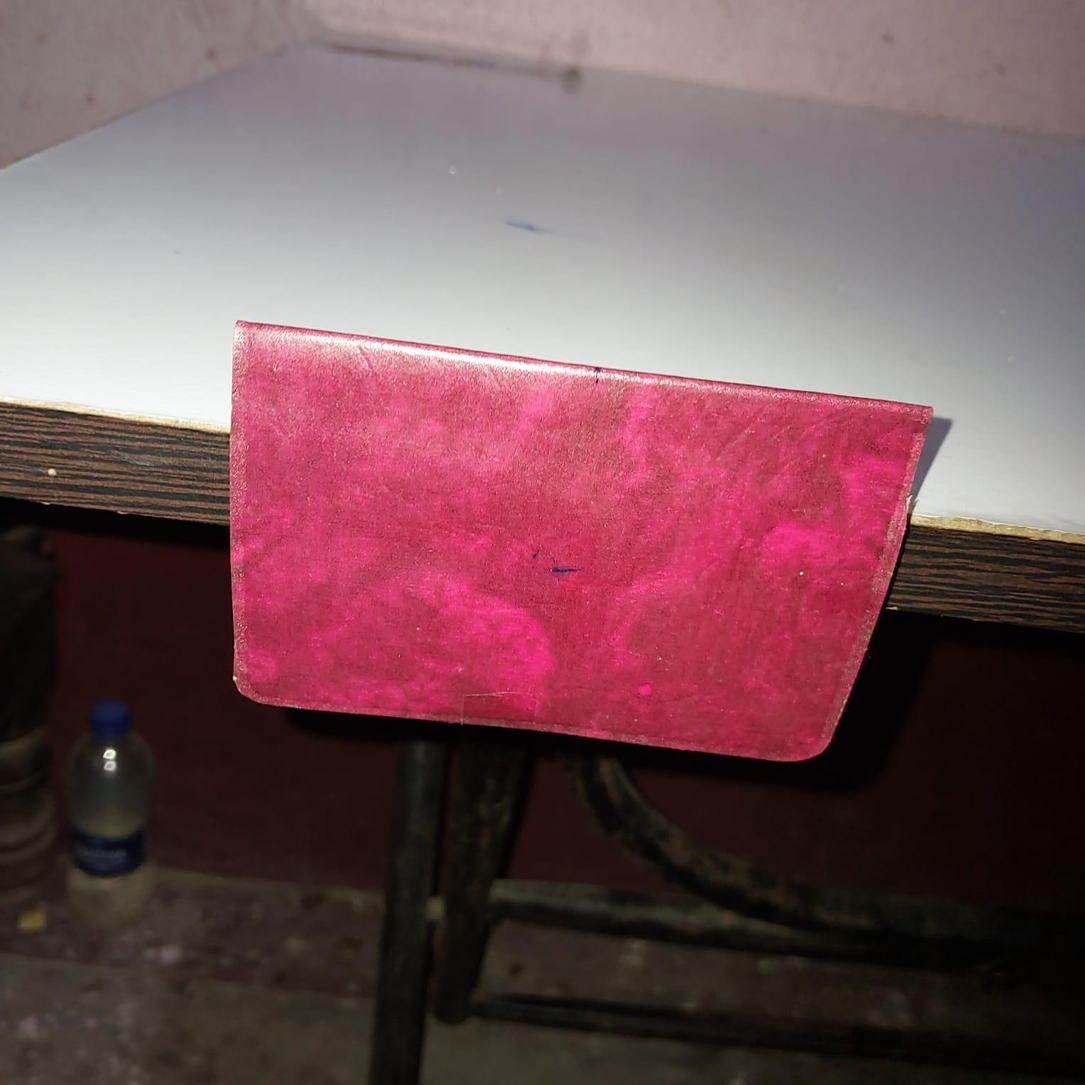wallet: (224, 317, 937, 765)
